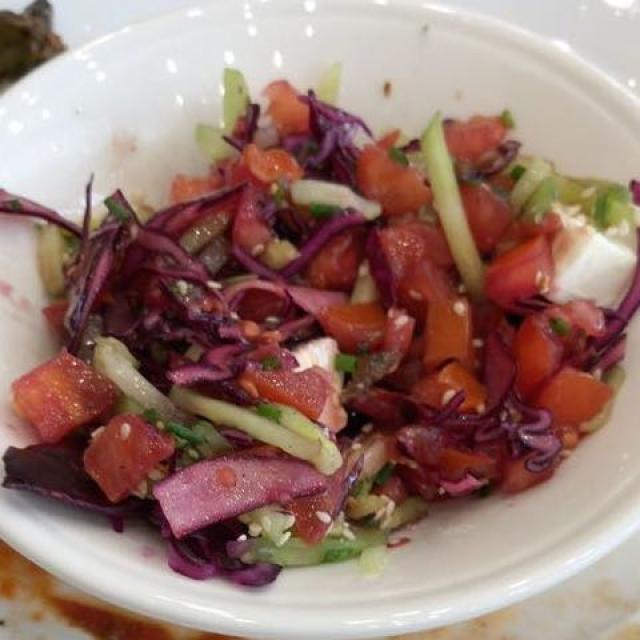salad: (23, 85, 634, 561)
